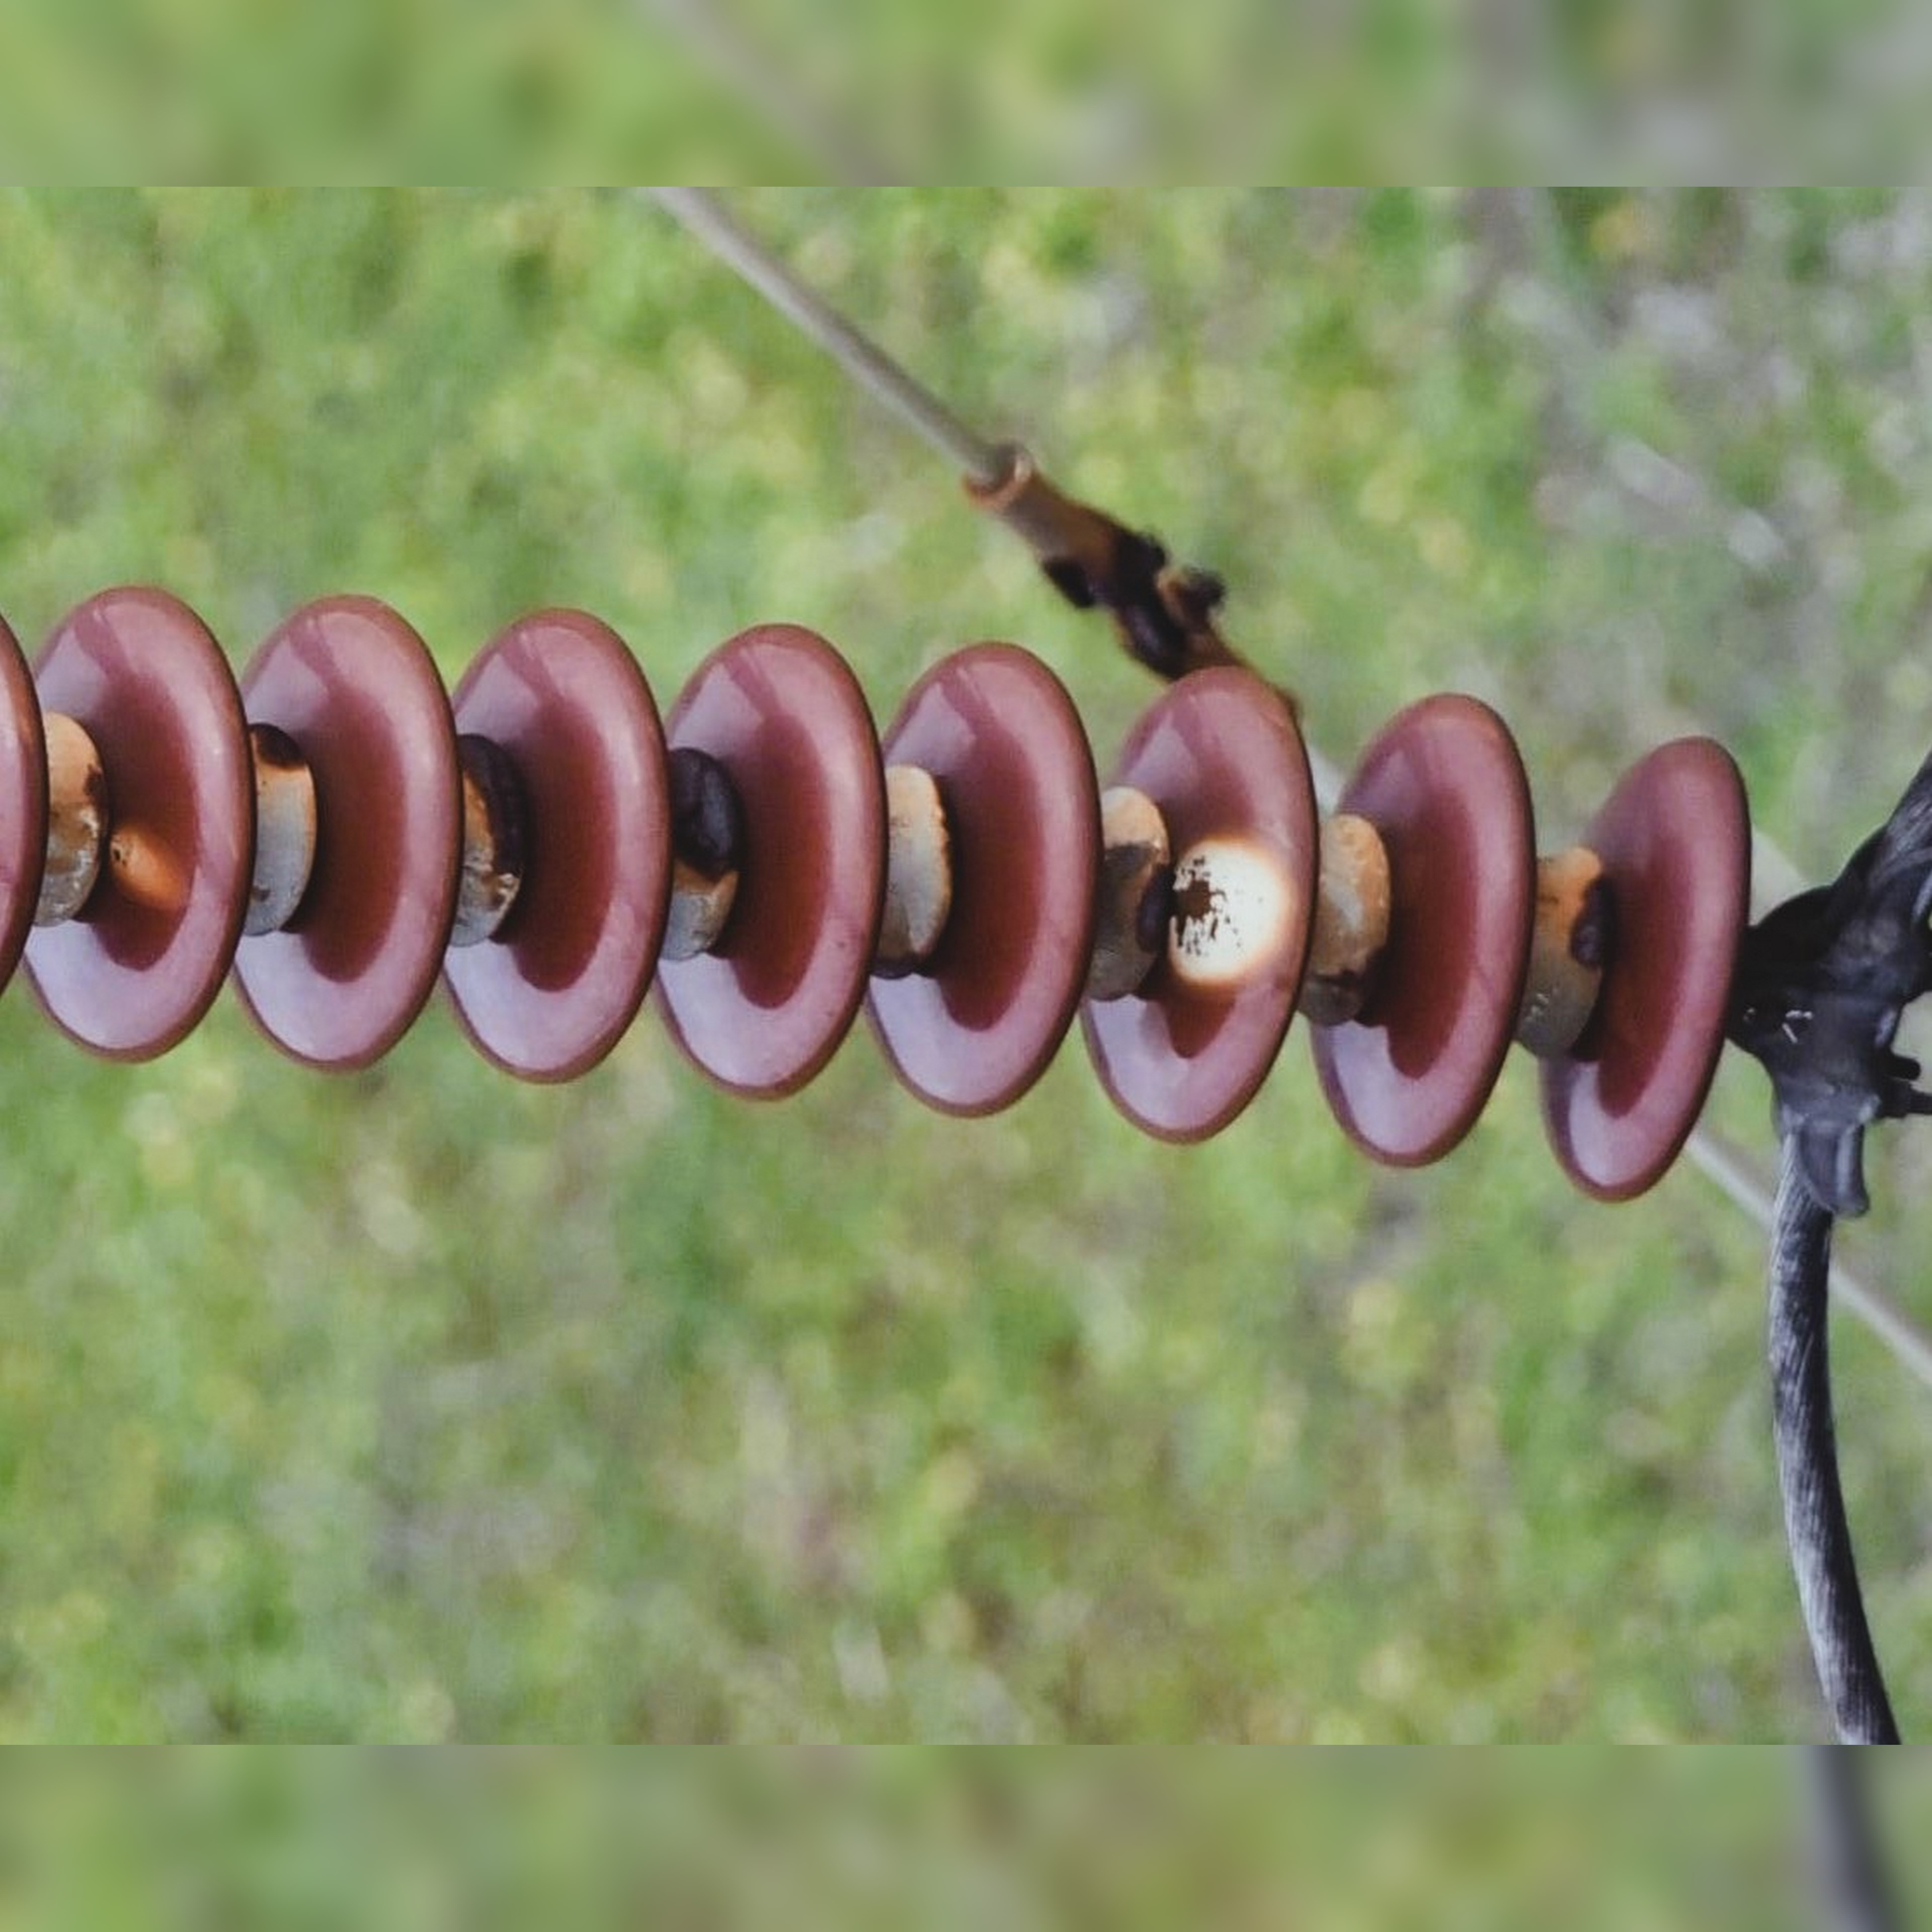Insulator flashover: (1070, 663, 1332, 1162)
